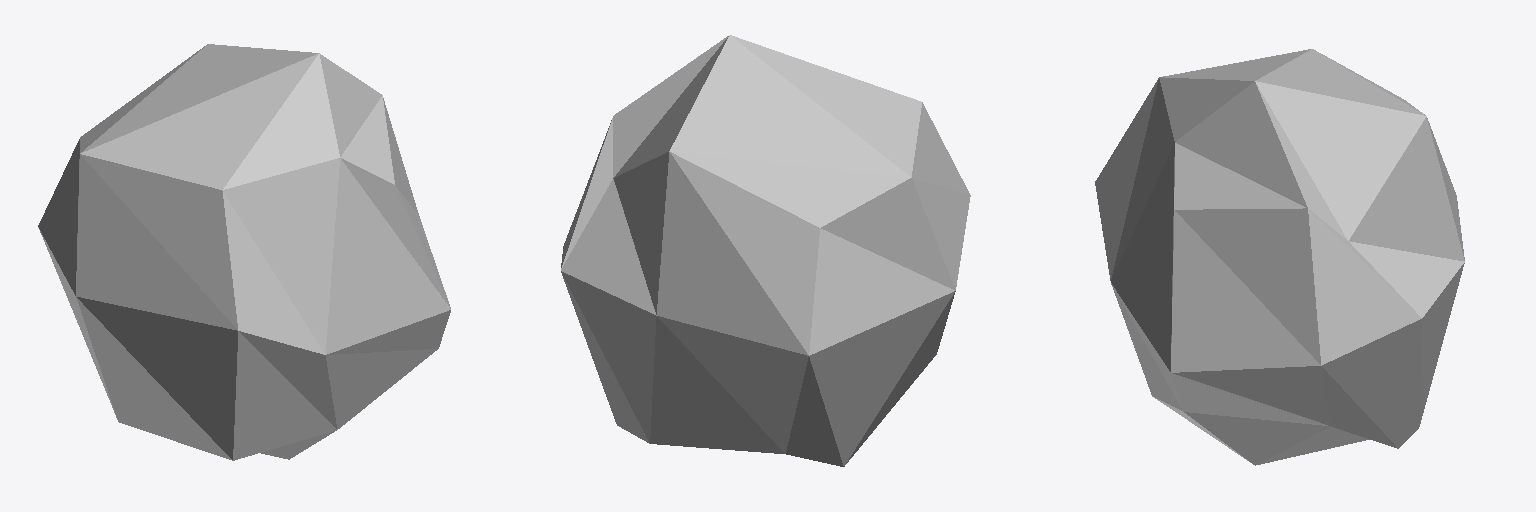
File: lowpoly_asteroid.obj
3 renders of one model, left to right at view 1: azimuth 30°, elevation 25°; view 2: azimuth 150°, elevation 25°; view 3: azimuth 270°, elevation 25°, orthographic.
Parts seen in each view (by area): view 1: Cube.009; view 2: Cube.009; view 3: Cube.009.
Boxes of the visible parts, <box> form: Cube.009: <box>38,44,450,460</box>; Cube.009: <box>561,35,970,466</box>; Cube.009: <box>1095,49,1464,465</box>.
Size of the model in its own units: 3.36 by 3.49 by 2.93.